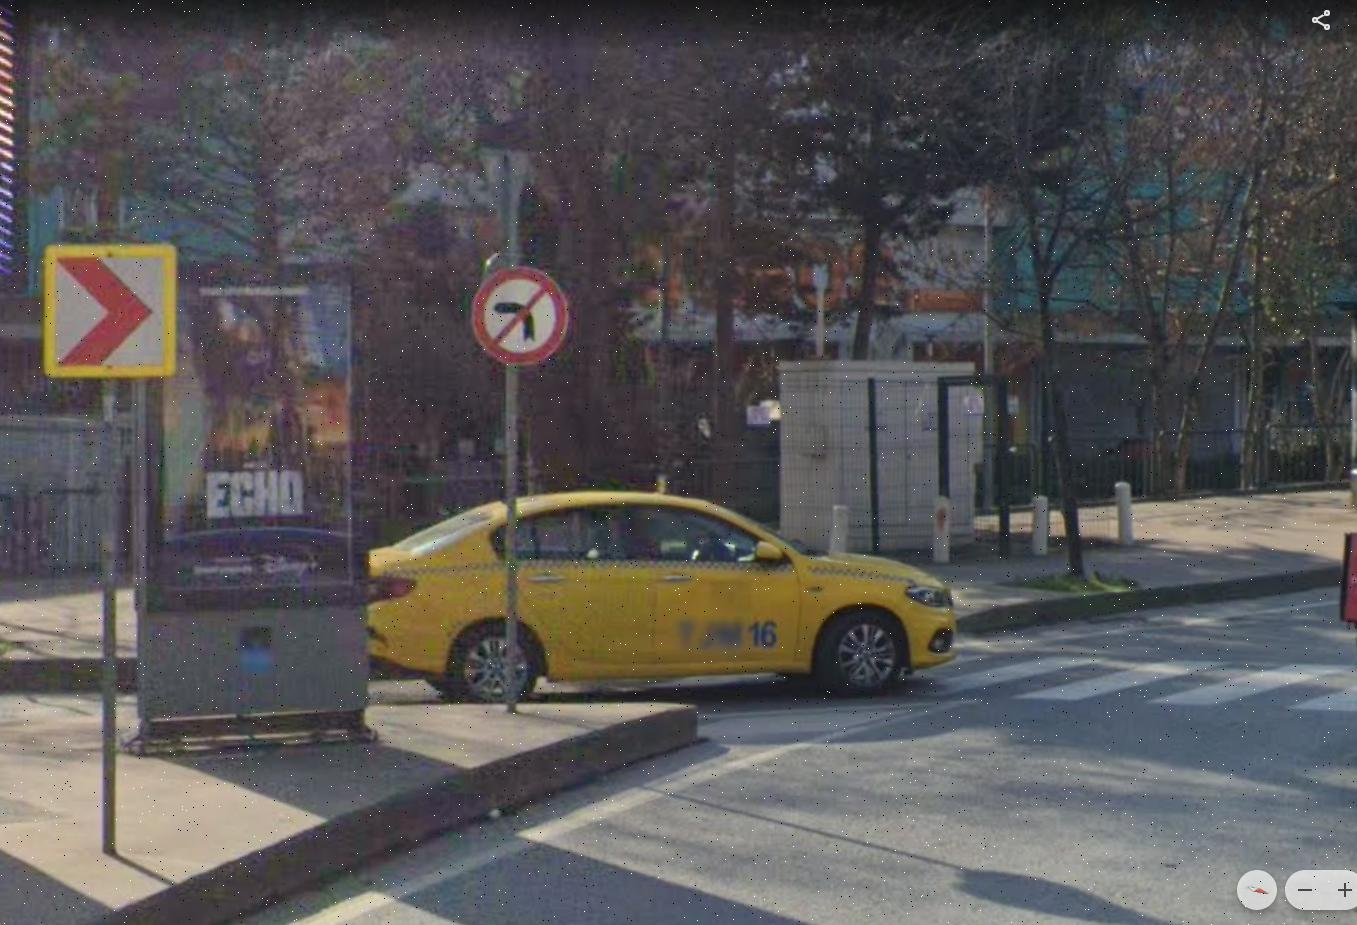leftturnsareforbidden: (473, 265, 566, 361)
